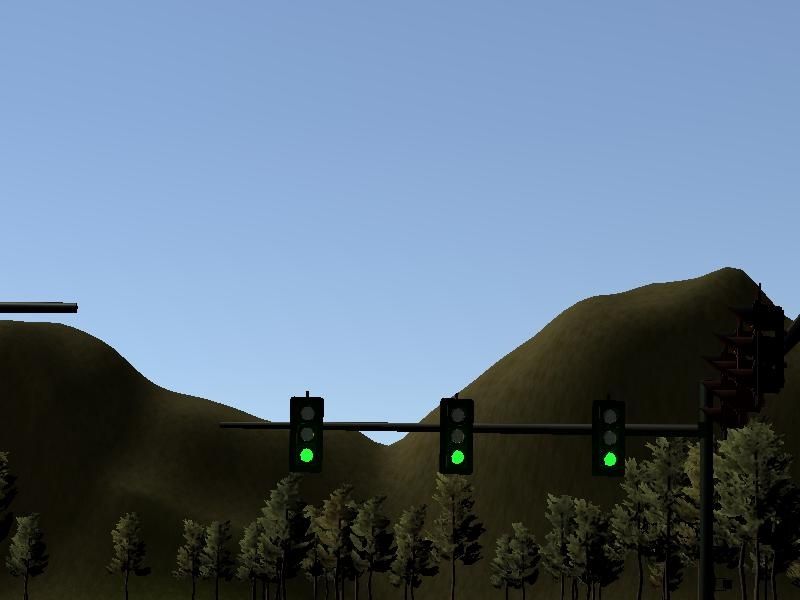GREEN: (589, 403, 627, 478), (439, 398, 476, 475), (289, 395, 325, 470)
